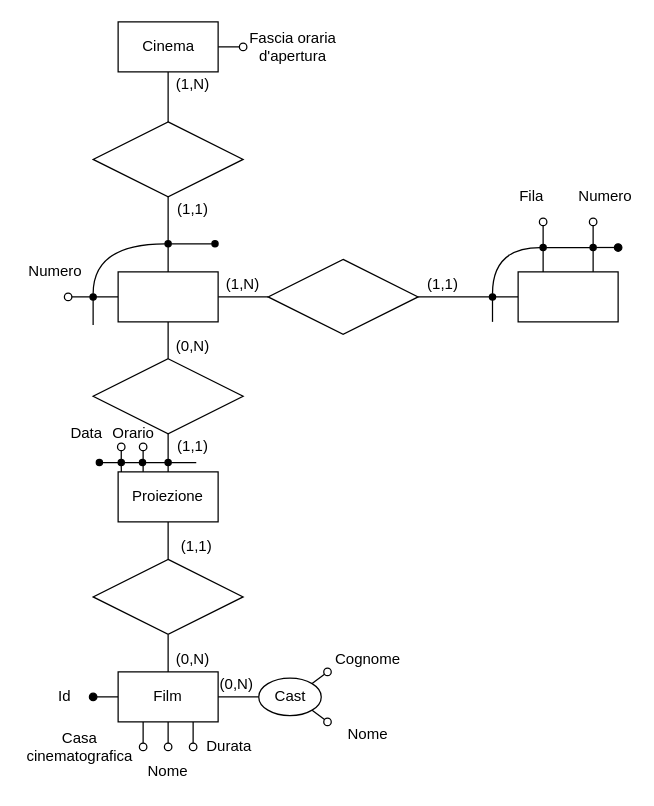
This 654x806 diagram has some shape labels left out. Here are the shapes that lost their labels. From the top down, the centre of each, then its label:
At [167,296]: "Sala".
At [567,296]: "Posto".
